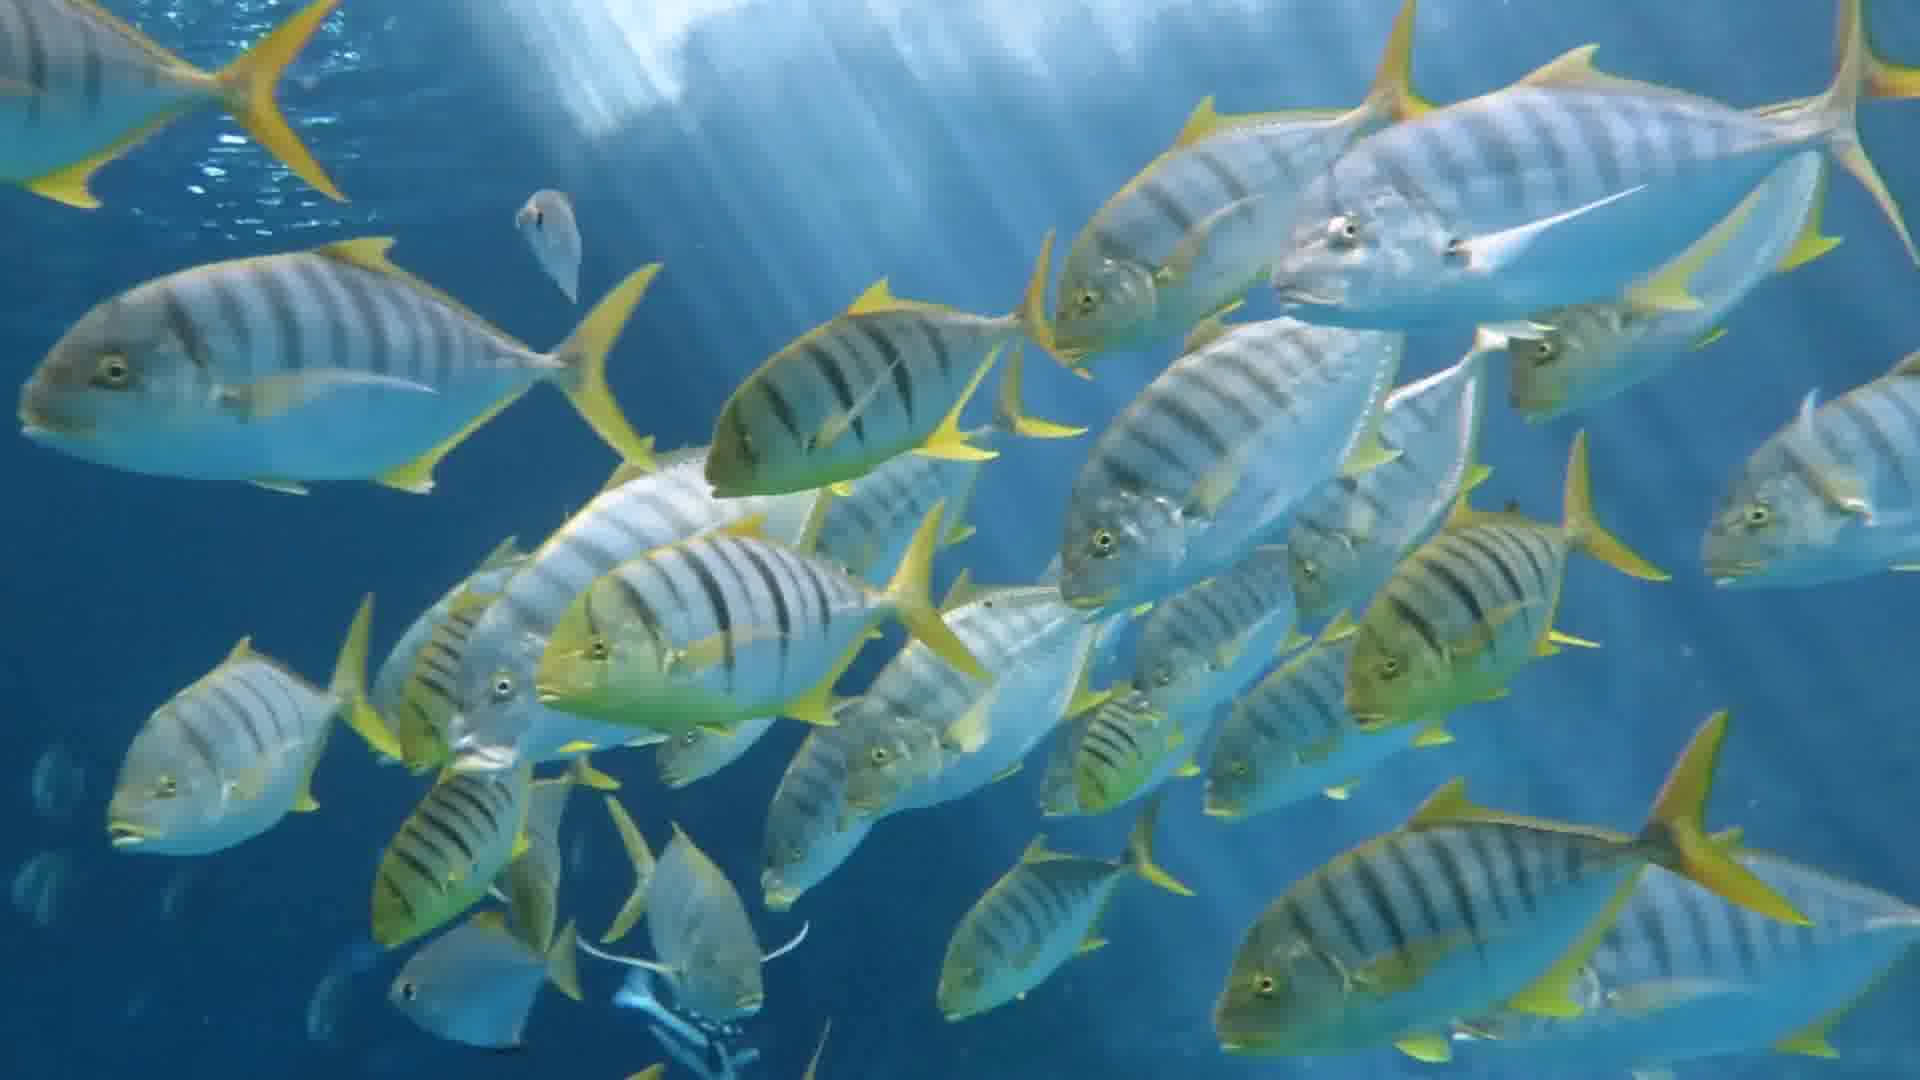Gnathanodon speciosus: (1275, 55, 1894, 334), (18, 245, 615, 495), (1209, 781, 1720, 1059), (1054, 299, 1411, 620), (1050, 25, 1406, 342), (554, 512, 992, 713), (688, 282, 1076, 495), (1507, 177, 1833, 429), (102, 616, 378, 874), (1366, 493, 1600, 754), (858, 582, 1106, 824), (934, 820, 1189, 1030), (1701, 377, 1920, 587), (611, 810, 756, 1033), (1127, 543, 1313, 713), (363, 771, 531, 957), (762, 698, 868, 902), (1091, 704, 1192, 804)
